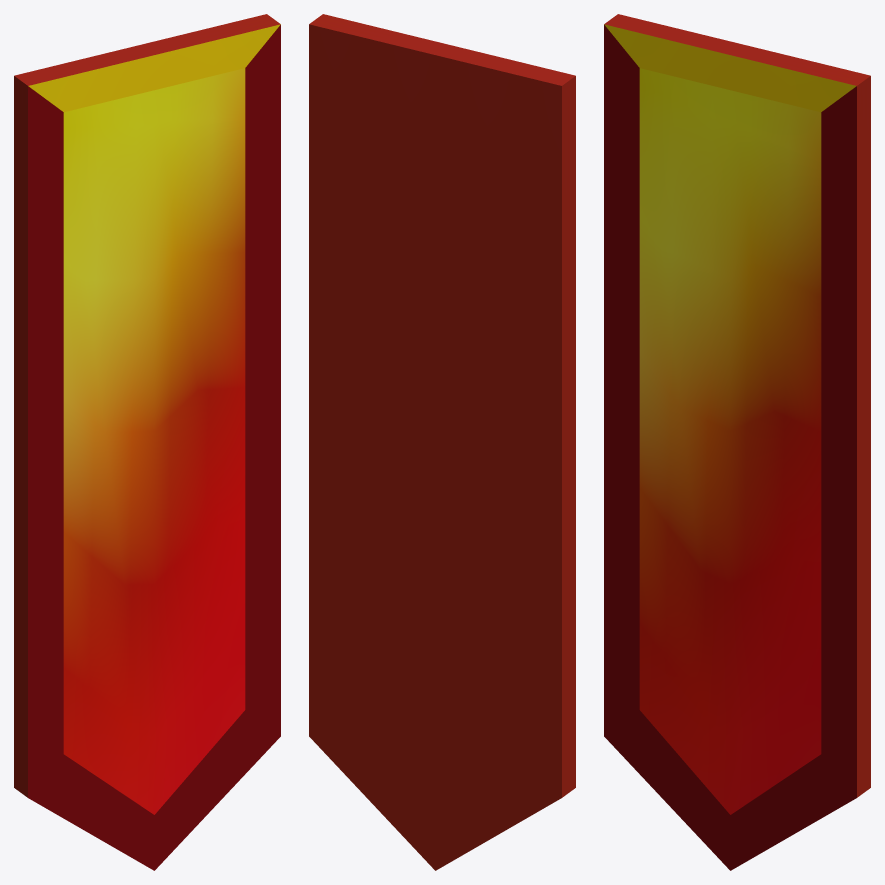
File: flag.fbx
3 renders of one model, left to right at view 1: azimuth 30°, elevation 25°; view 2: azimuth 150°, elevation 25°; view 3: azimuth 330°, elevation 25°, orthographic.
Parts seen in each view (by area): view 1: Cube.013; view 2: Cube.013; view 3: Cube.013.
Part boxes in pixels (<box>): Cube.013: <box>14,14,280,870</box>; Cube.013: <box>309,14,575,870</box>; Cube.013: <box>604,14,870,870</box>.
Bounding box in the file's own units: 239 × 738 × 23.07.
1 material, 1 textured.
